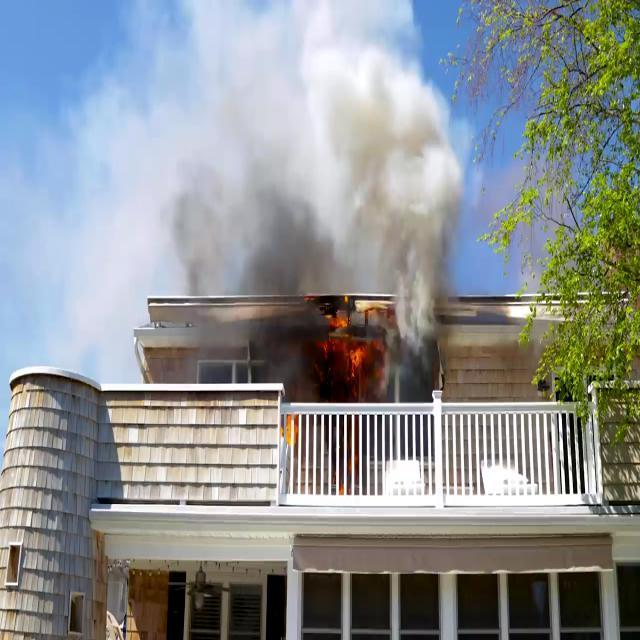Fire: (310, 297, 378, 384)
Smoke: (70, 0, 478, 322), (170, 278, 326, 396)
